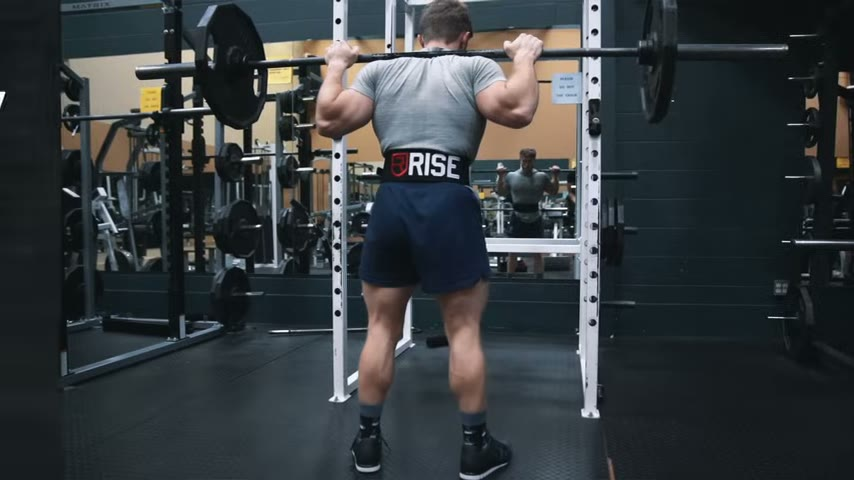barbell_plate_side: (194, 0, 269, 134)
